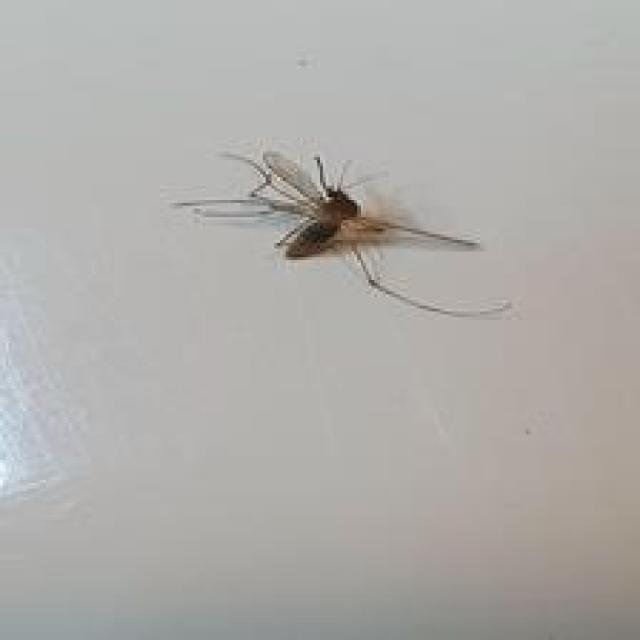Culex: (173, 146, 513, 320)
